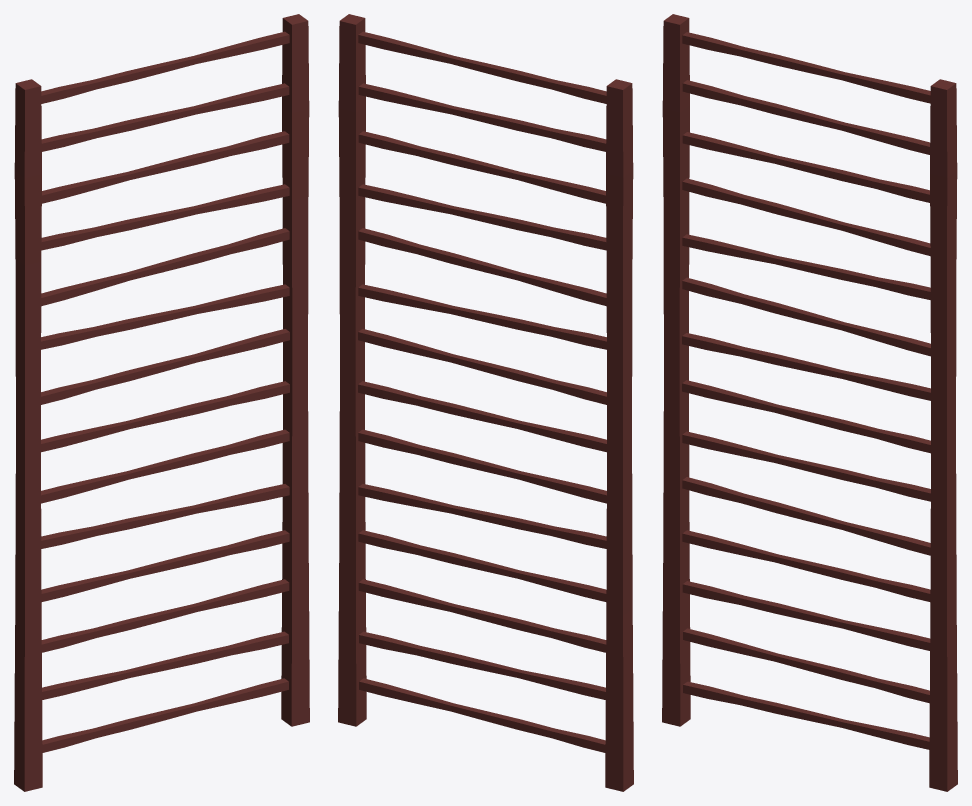
Rendered from ladder.fbx.
The picture shows the model from 3 angles, left to right: view 1: azimuth 30°, elevation 25°; view 2: azimuth 150°, elevation 25°; view 3: azimuth 330°, elevation 25°; orthographic projection.
Parts seen in each view (by area): view 1: Cube; view 2: Cube; view 3: Cube.
Part boxes in pixels (<box>): Cube: <box>14,14,309,791</box>; Cube: <box>338,14,633,791</box>; Cube: <box>662,14,957,791</box>.
Size of the model in its own units: 599 by 1407 by 38.25.
